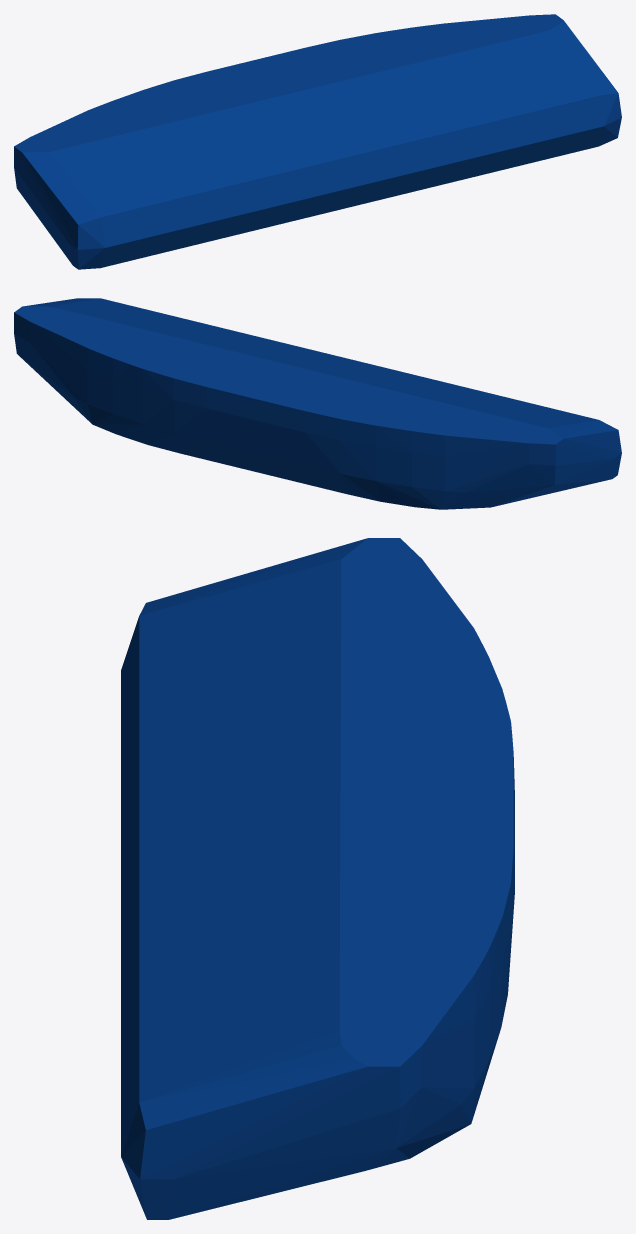
Rendered from right-shoulder-pitch-0_part_42.obj.
The picture shows the model from 3 angles, top to bottom: view 1: azimuth 30°, elevation 25°; view 2: azimuth 150°, elevation 25°; view 3: azimuth 270°, elevation 25°; orthographic projection. The views are drawn at different scales.
Bounding box in the file's own units: 0.028 × 0.00394 × 0.00878.
